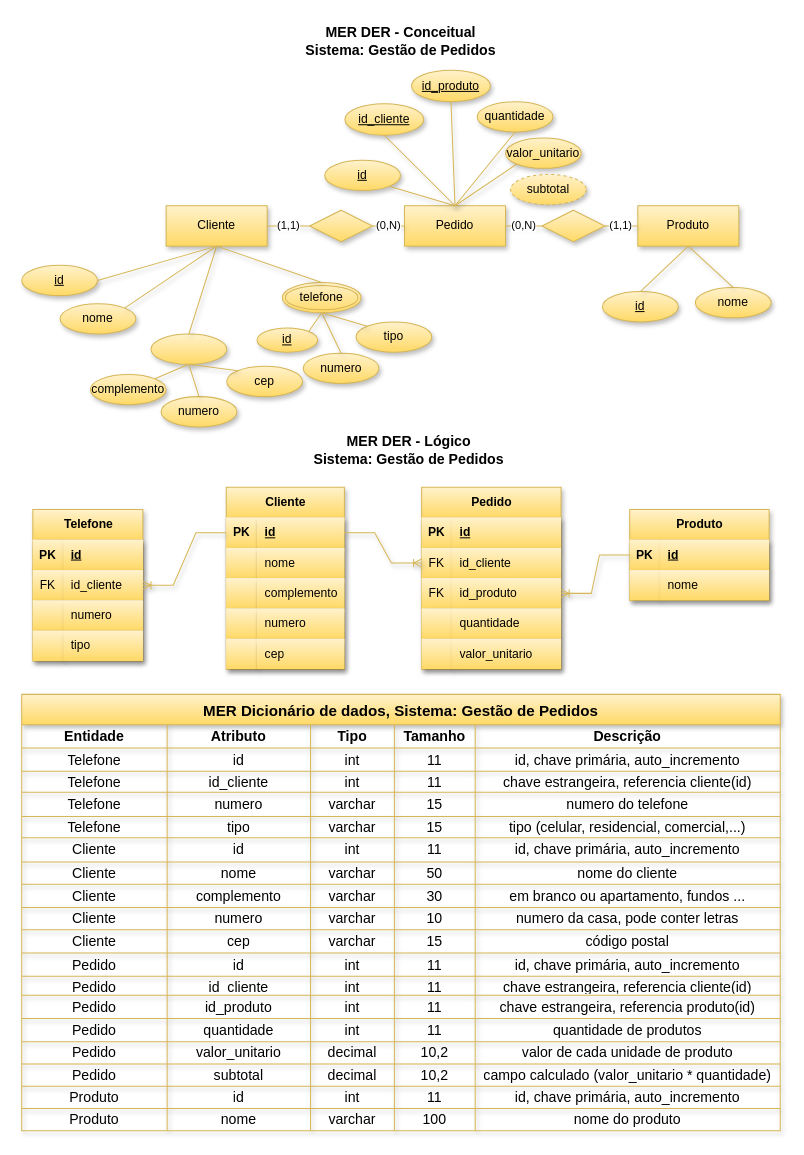
Image size: 804x1155. Some labels were removed from this diagram. Each missing label, with the centre of its shape:
endereco: (189,350)
faz: (342,227)
possui: (574,227)
